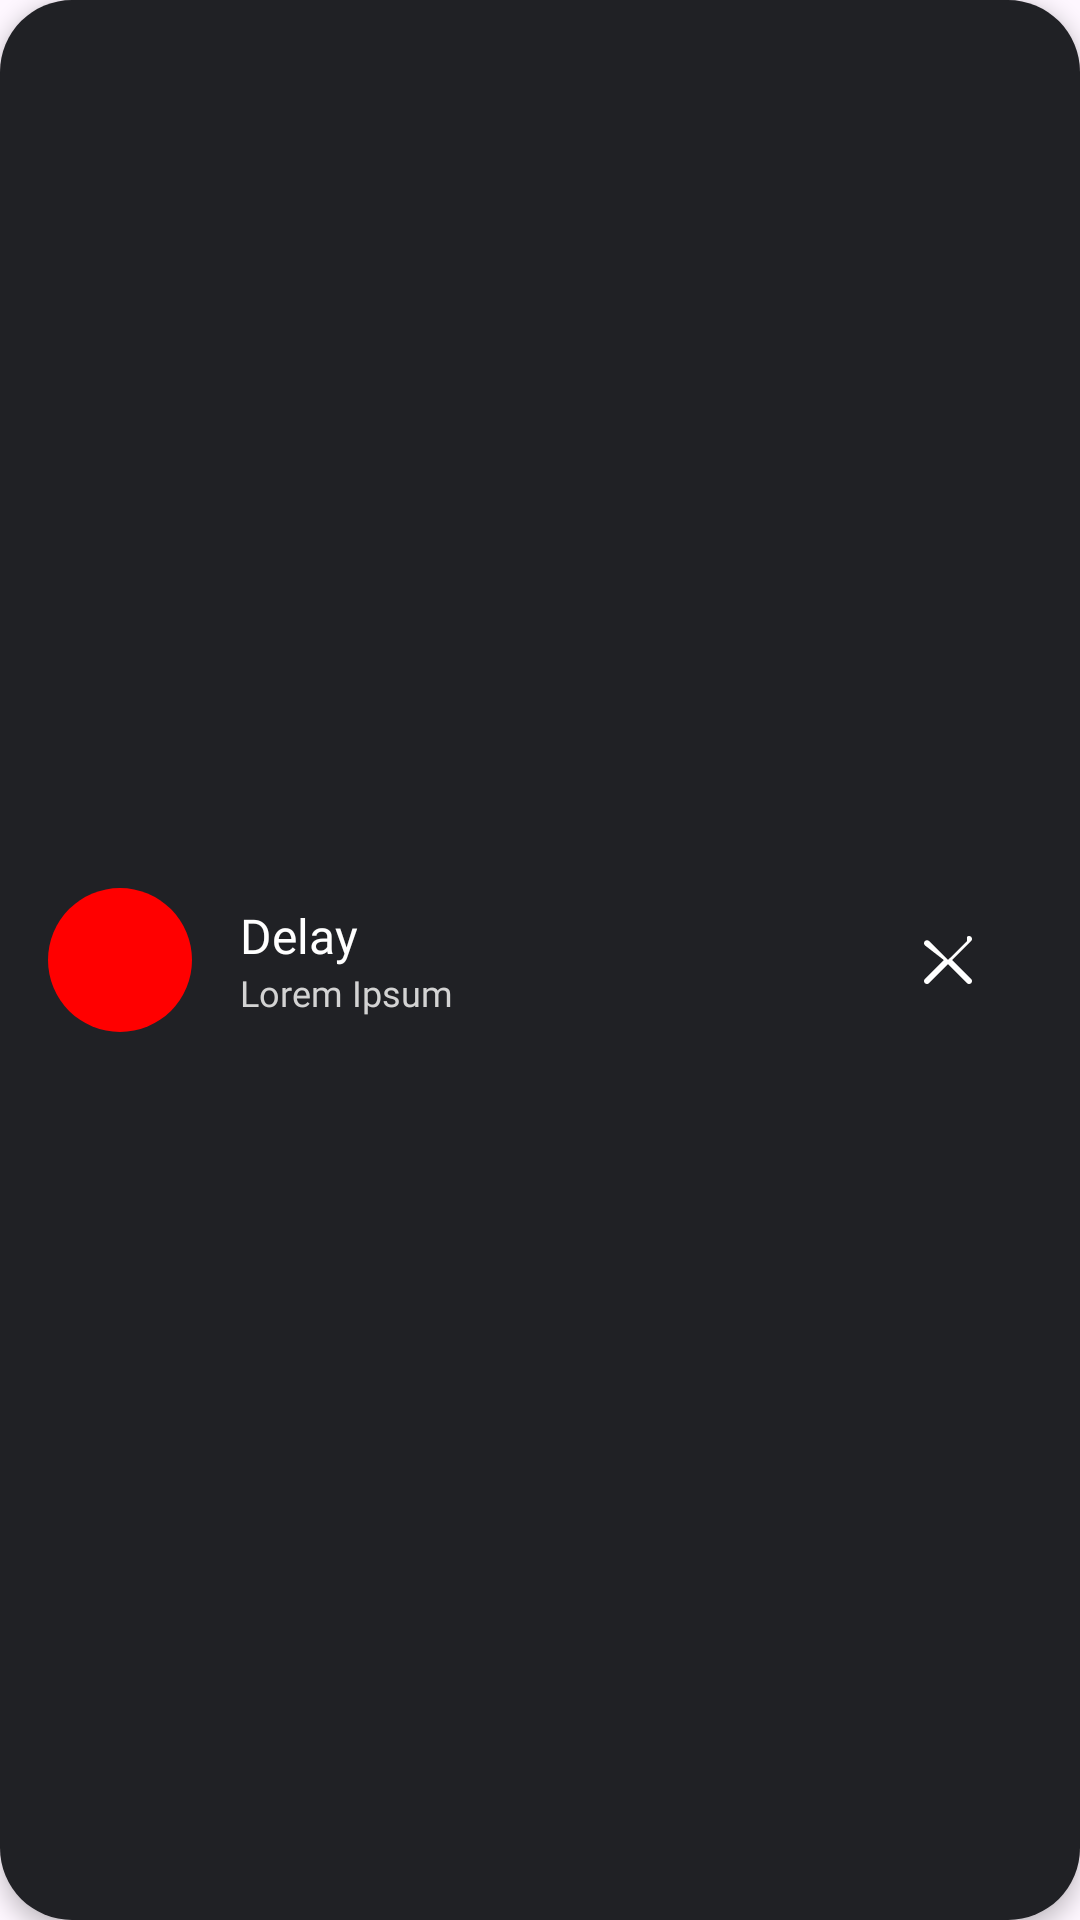

Screen size 1080w x 1920h. Icon name, then its center in pixels as (x=x, y=y):
Remove Effect: (x=948, y=960)
